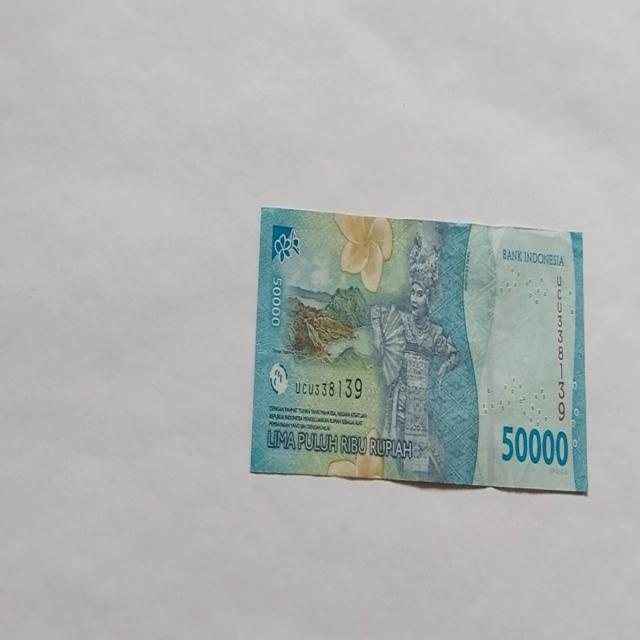lima puluh ribu rupiah: (249, 206, 588, 494)
